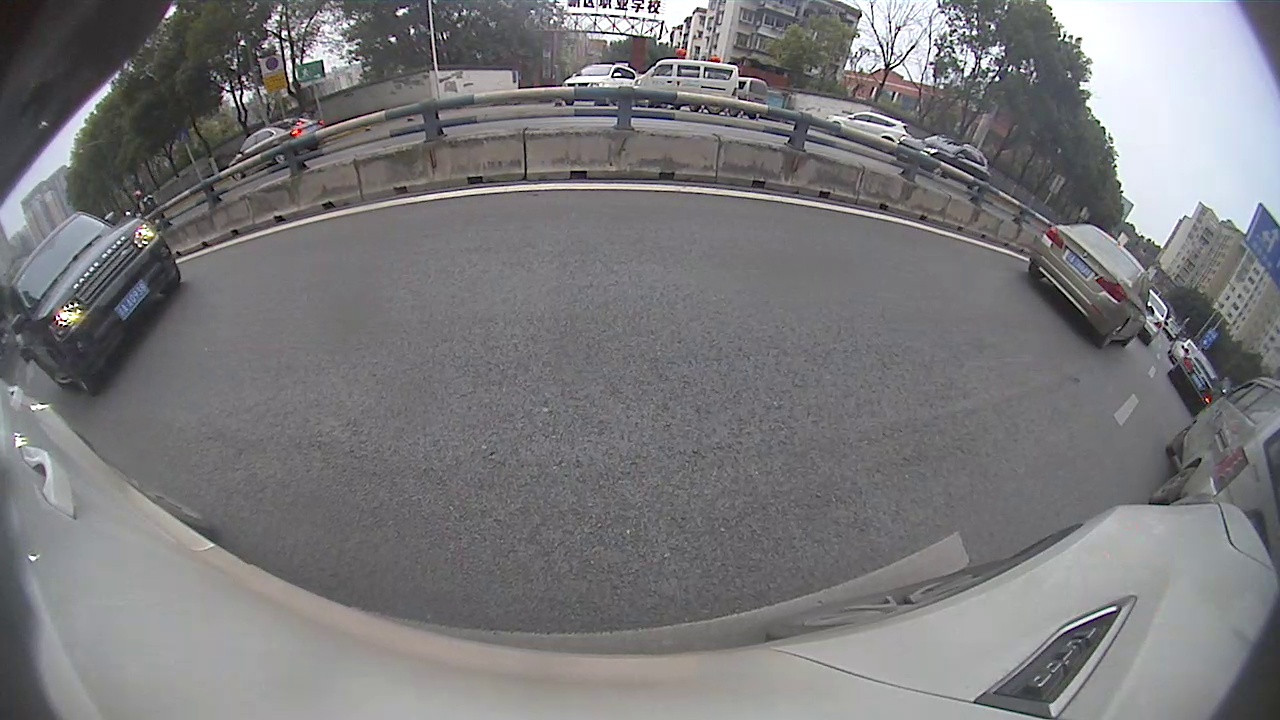car: (7, 209, 182, 398), (1148, 377, 1279, 571), (1027, 221, 1157, 352)
rear: (1151, 462, 1198, 502)
